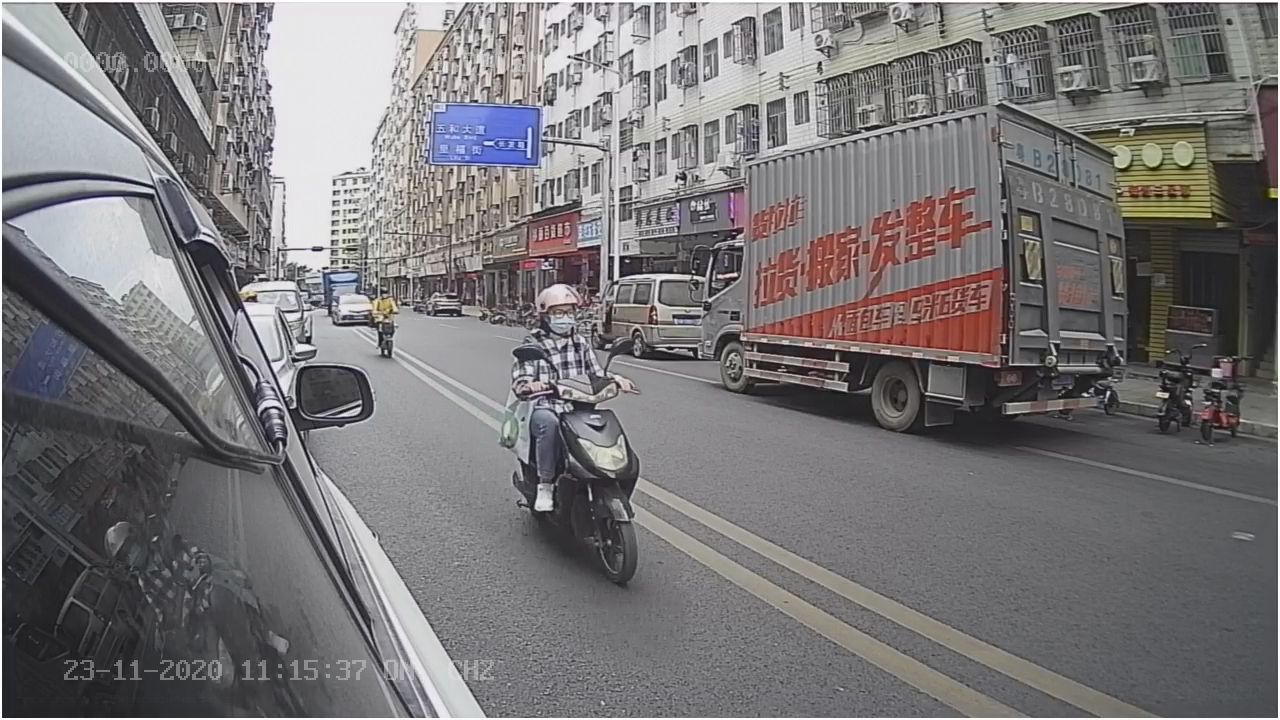person: (497, 278, 646, 386)
